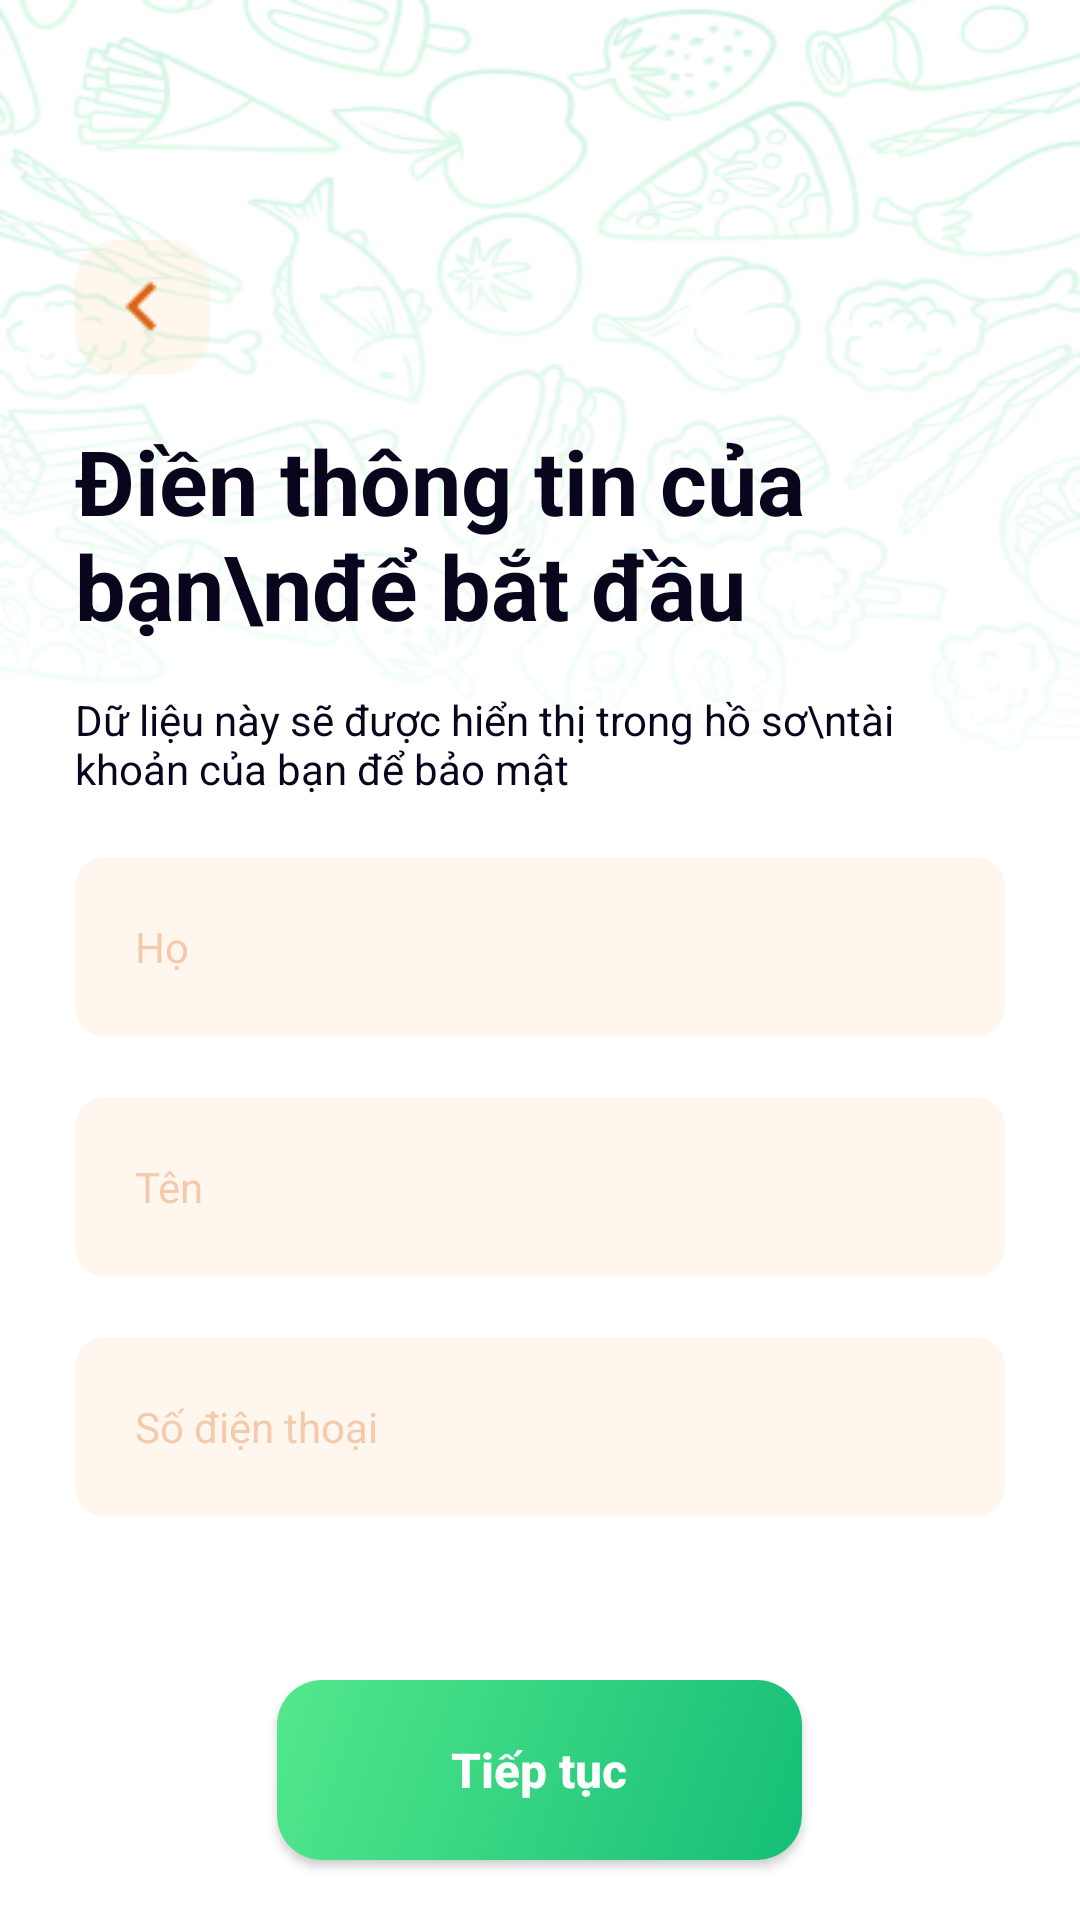

Icons on this 1080 x 1920 Android screen, each with the point to tap as (x=x, y=y):
back: (x=142, y=307)
